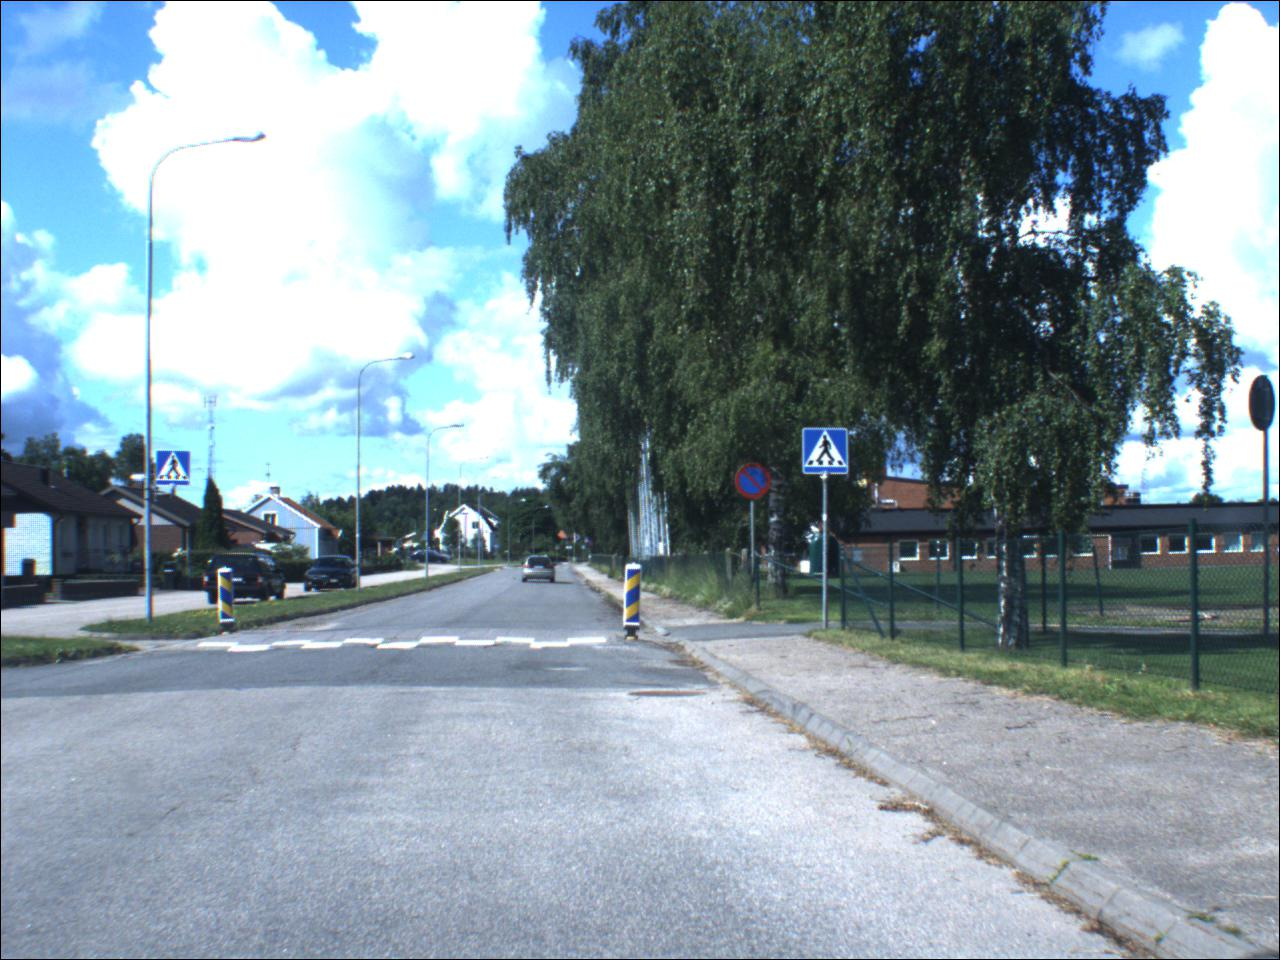NO_PARKING: (736, 464, 775, 503)
PEDESTRIAN_CROSSING: (803, 430, 852, 478), (158, 452, 191, 487)
